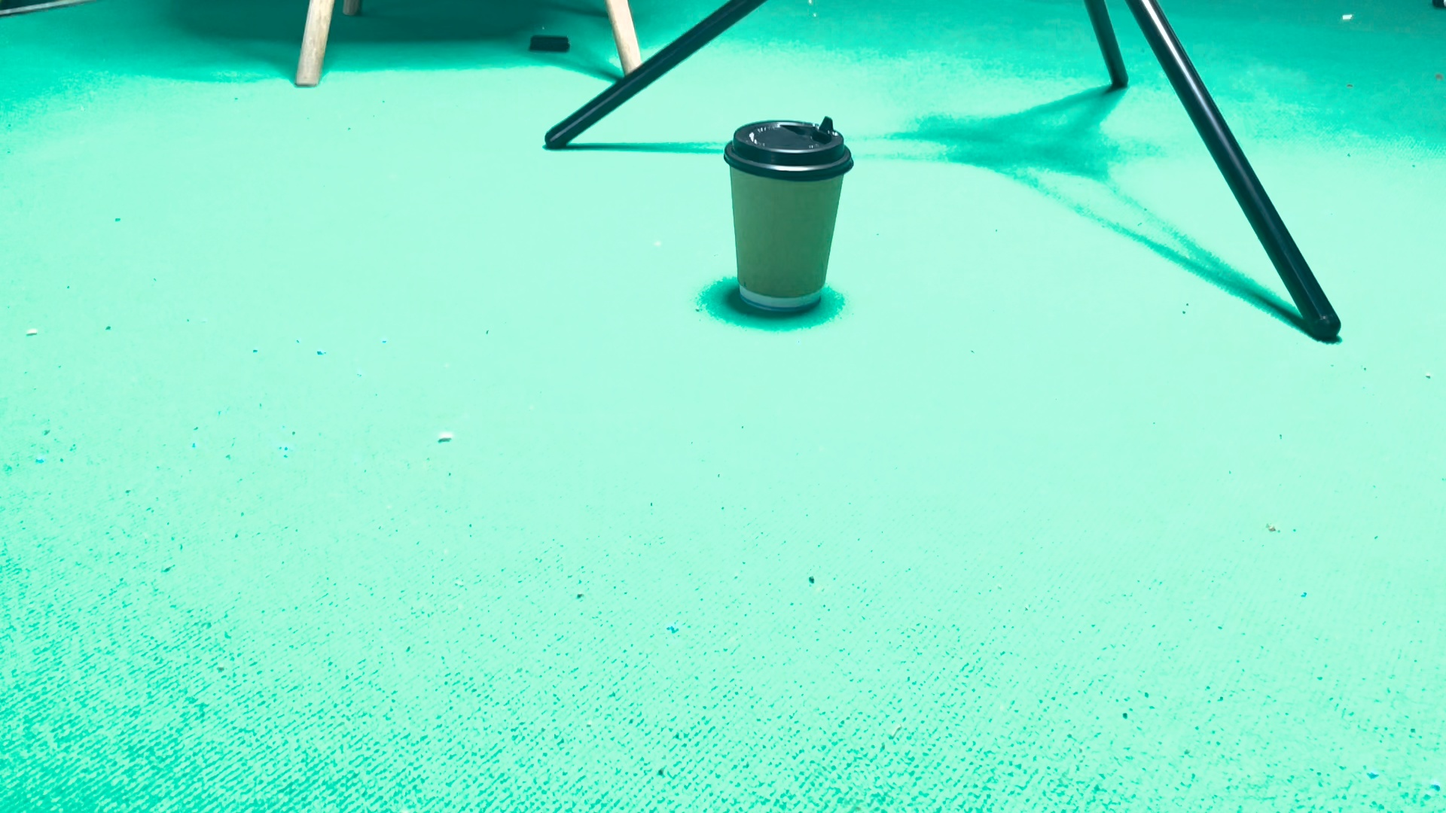cup: (737, 435, 832, 562)
